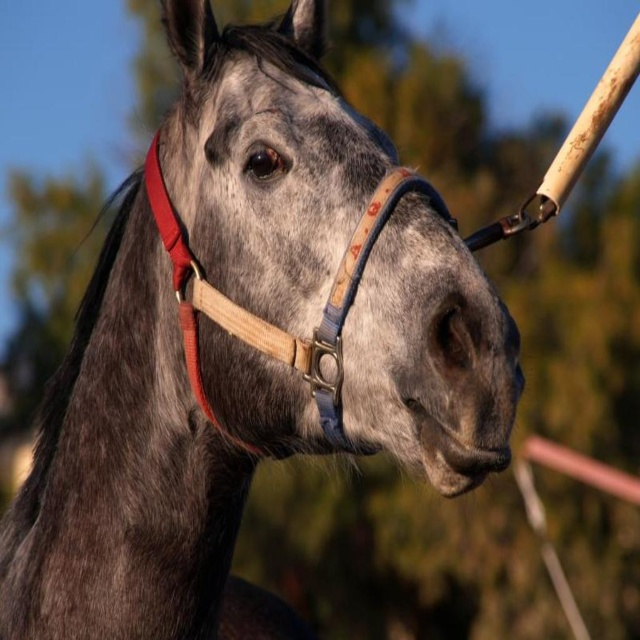Horse: (0, 0, 525, 639)
